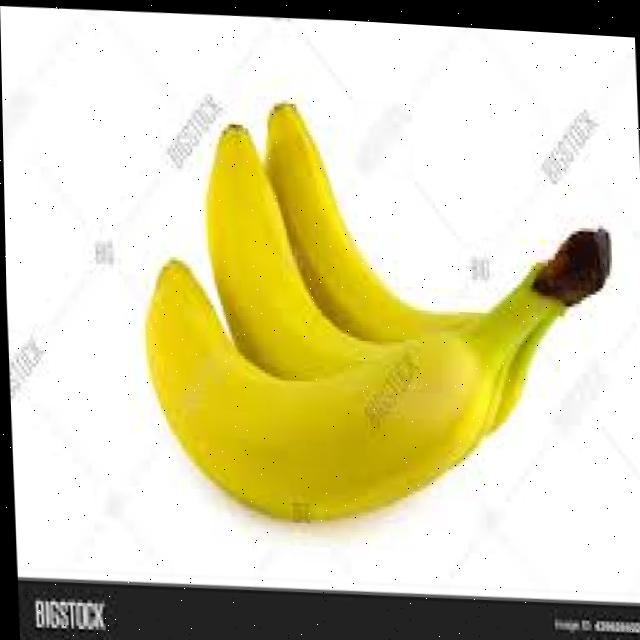Banana: (144, 263, 481, 512), (265, 102, 477, 336), (206, 121, 377, 375)
